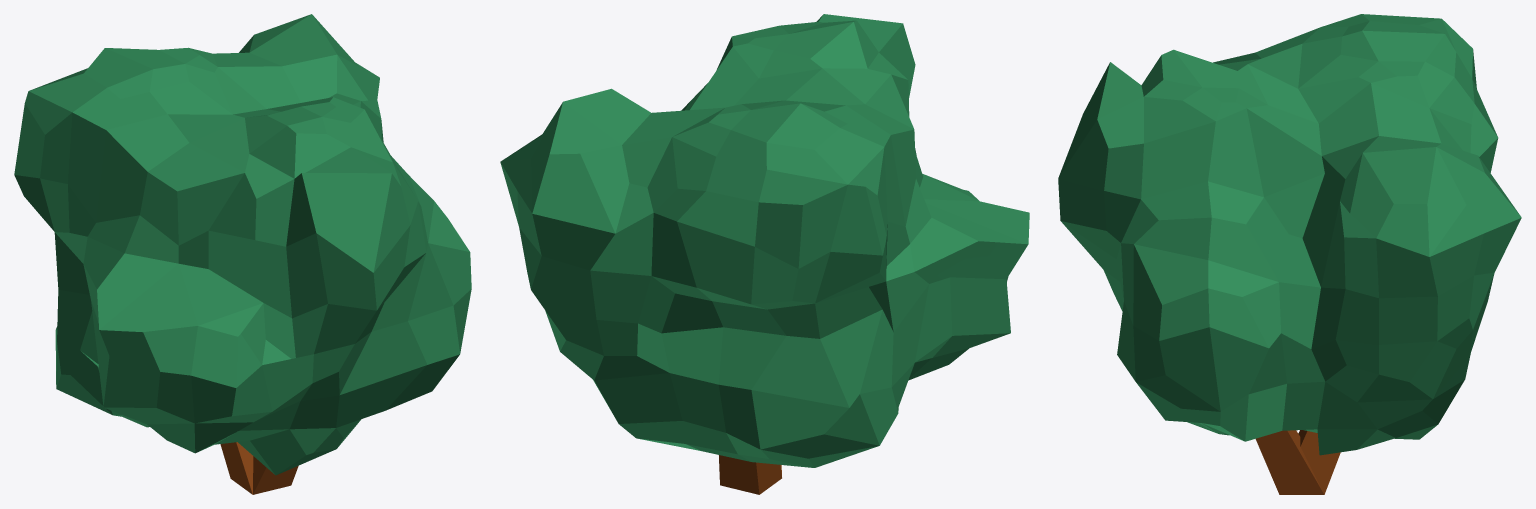
File: bush-3.glb
The picture shows the model from 3 angles, left to right: view 1: azimuth 30°, elevation 25°; view 2: azimuth 150°, elevation 25°; view 3: azimuth 270°, elevation 25°; orthographic projection. The views are drawn at different scales.
Visible parts, largest first — view 1: bush-3; view 2: bush-3; view 3: bush-3.
Part boxes in pixels (left/top/right/bottom): bush-3: left=14, top=14, right=471, bottom=494; bush-3: left=500, top=14, right=1029, bottom=494; bush-3: left=1058, top=14, right=1521, bottom=494.
Bounding box in the file's own units: 1.69 × 1.67 × 1.68.
